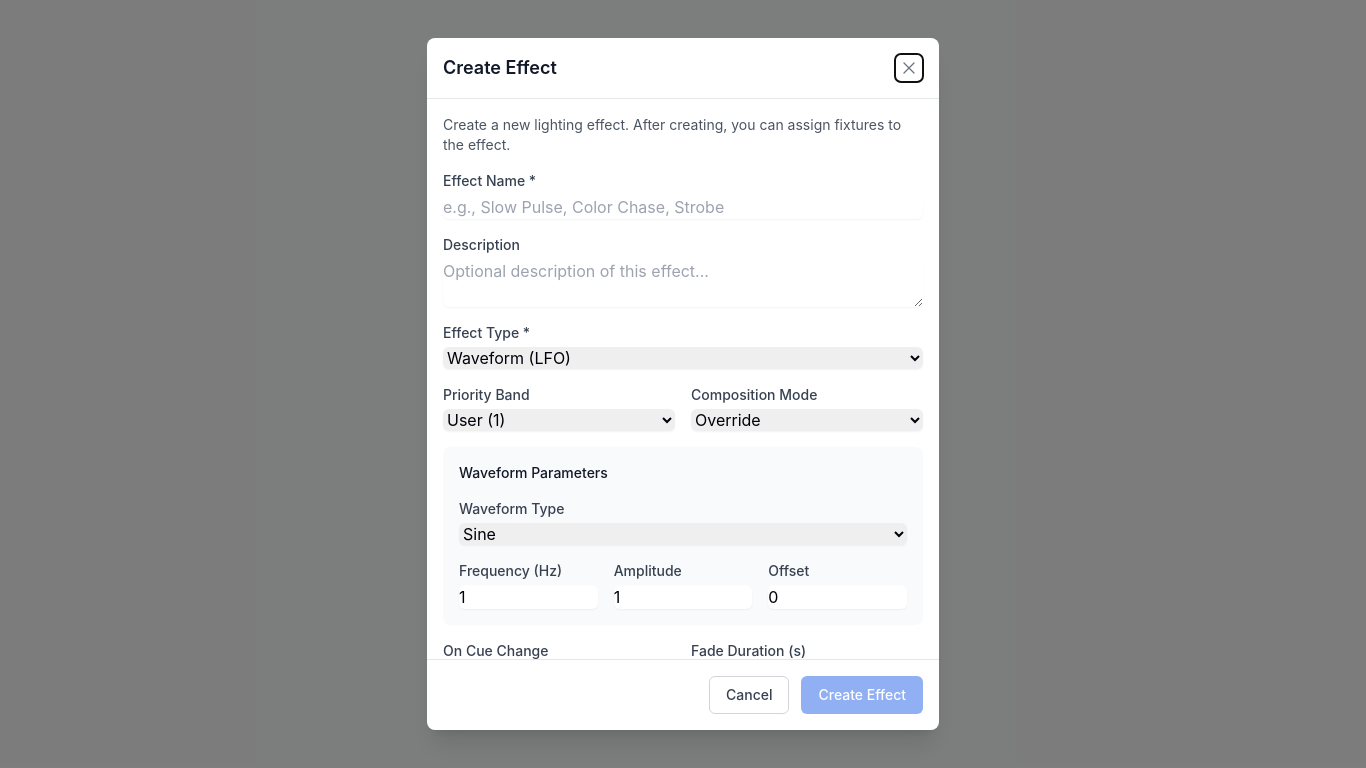
Test: CreateEffectModal › buttons › enables create button when name is provided
Type "My Effect" into the field labelled "Effect Name *".
click(683, 207); type("My Effect")  # box [443, 195, 923, 219]
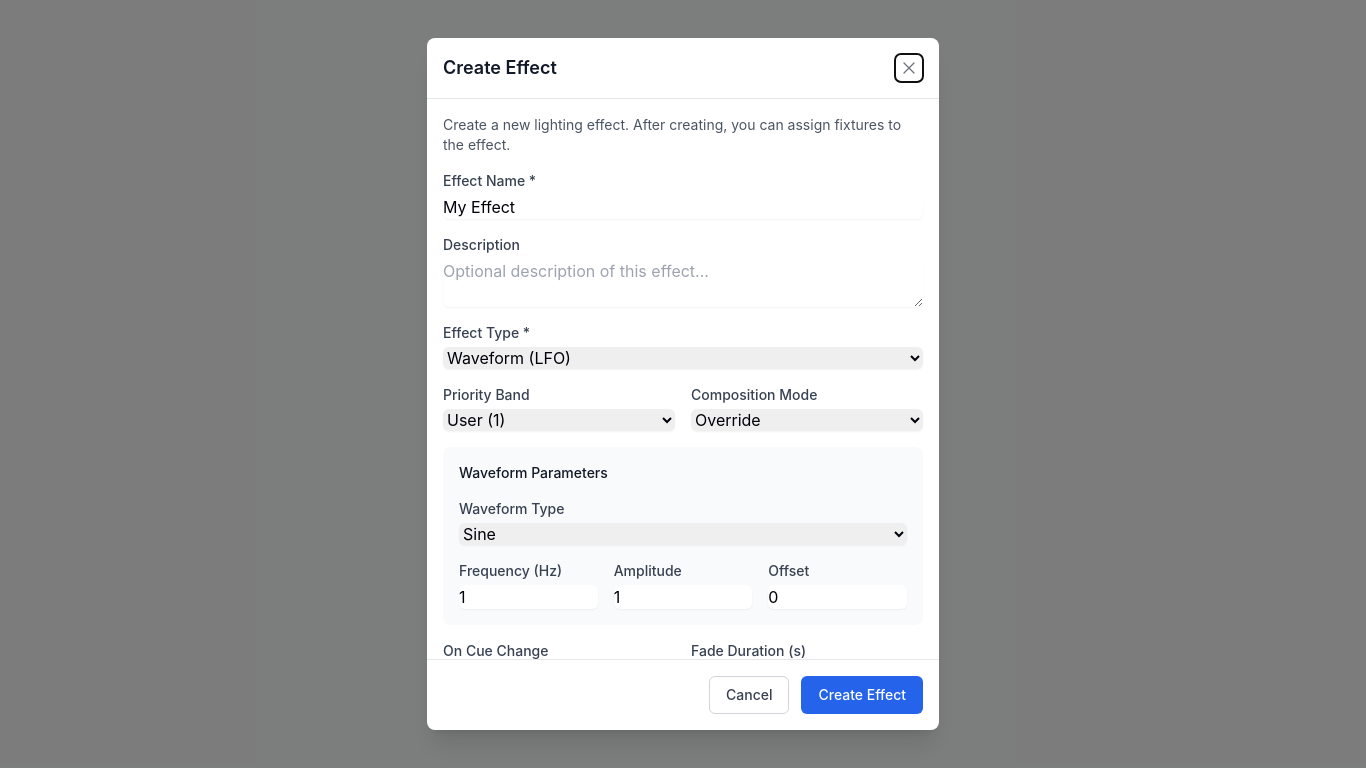
Check: the button "Create Effect" is enabled, box [802, 676, 923, 714]
